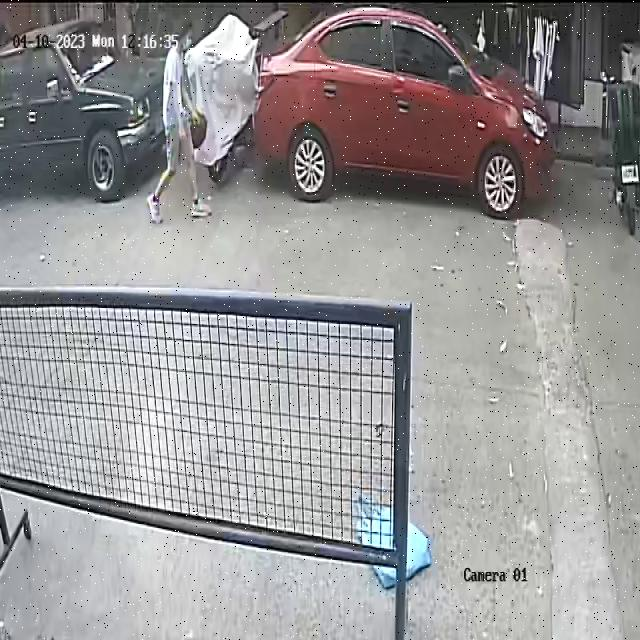human: (147, 15, 211, 227)
trash: (351, 472, 434, 592), (188, 102, 207, 150)
